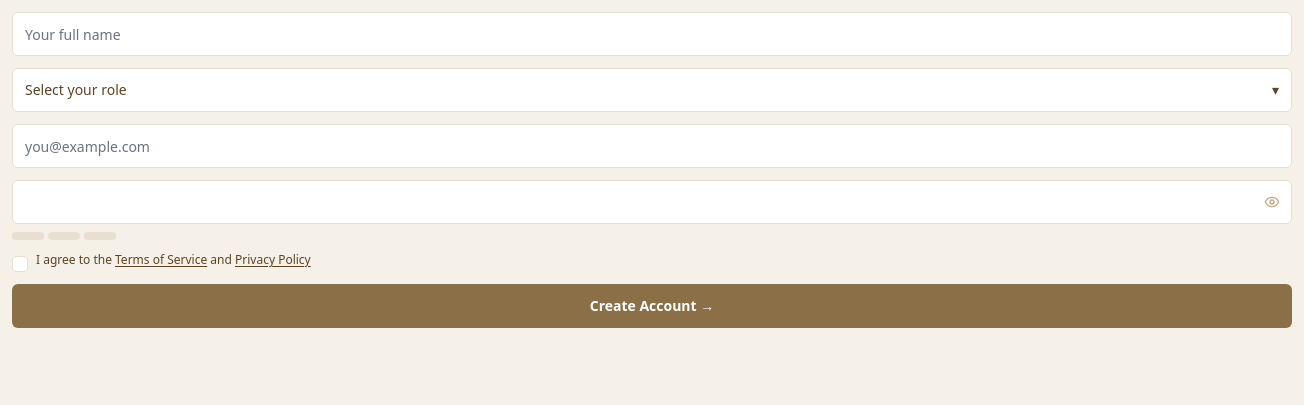
Test: SignUpForm › submit without terms shows error
The image size is (1304, 405).
Type "Test User" into the field labelled "name" at point(652, 34), box [12,12,1292,56]
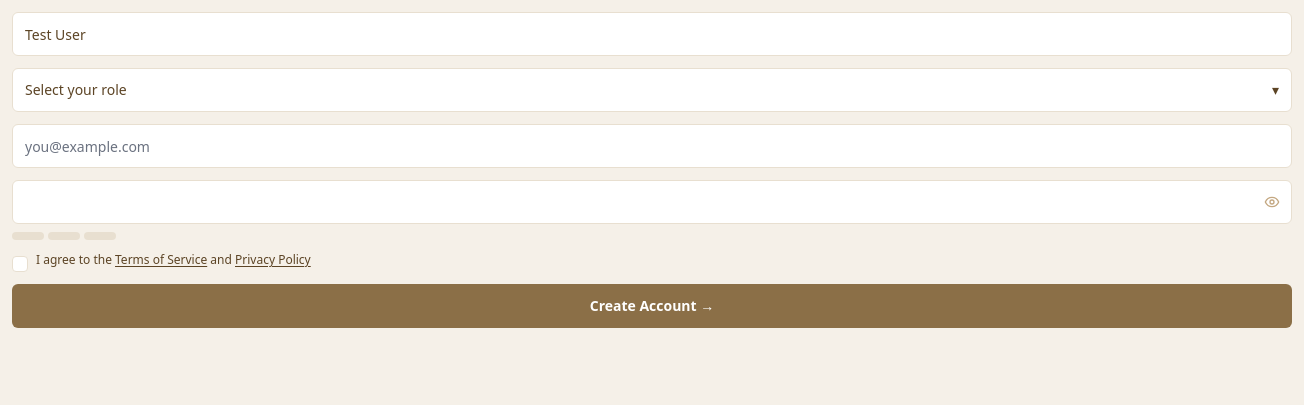
Type "test@example.com" into the field named "Email" at point(652, 146), box [12,124,1292,168]
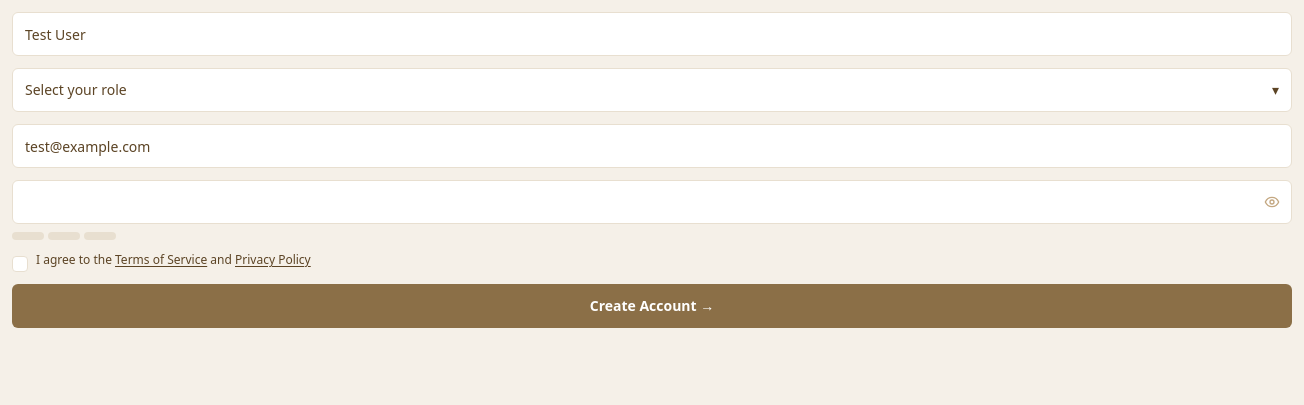
Type "TestPass1" into the password field named "Password" at point(652, 202), box [12,180,1292,224]
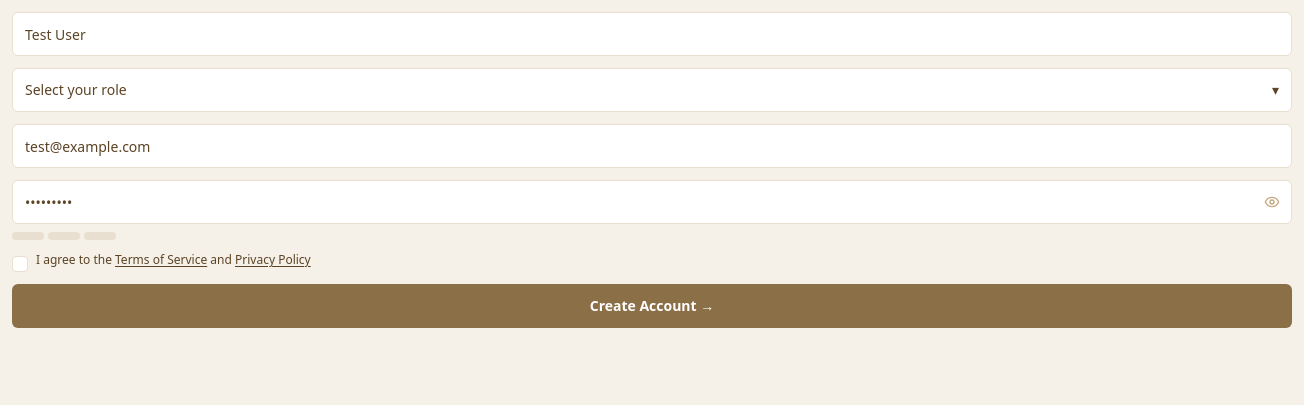
Click the button "Create Account →" at point(652, 306), box [12,284,1292,328]
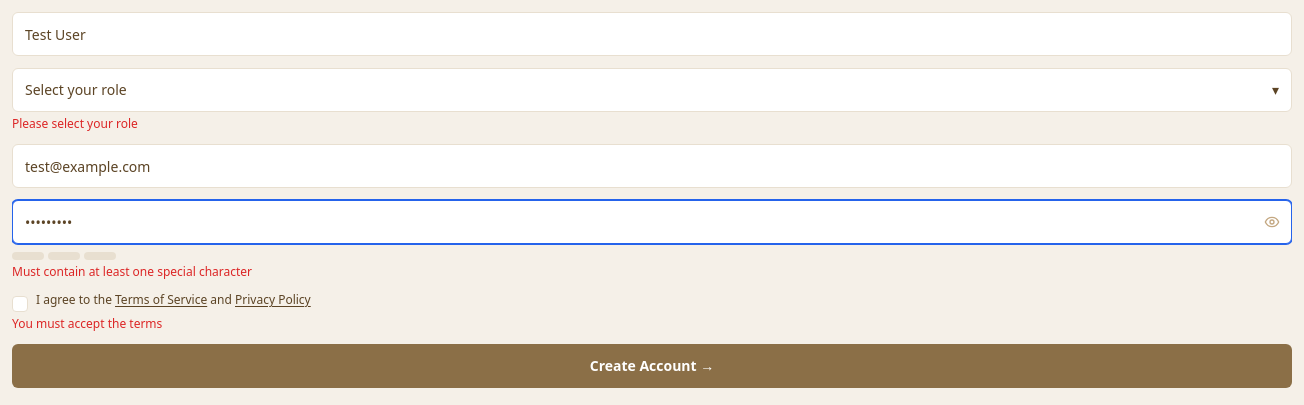
expect the text "You must accept the terms" is shown: met, box [12,315,162,332]
